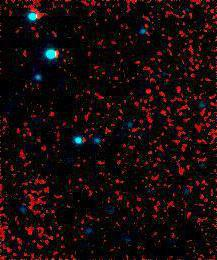star: (133, 76, 163, 106)
